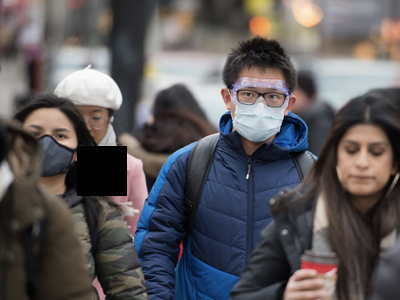with_mask: (231, 76, 290, 144), (22, 121, 77, 181)
without_mask: (335, 135, 395, 198), (78, 105, 111, 149)
